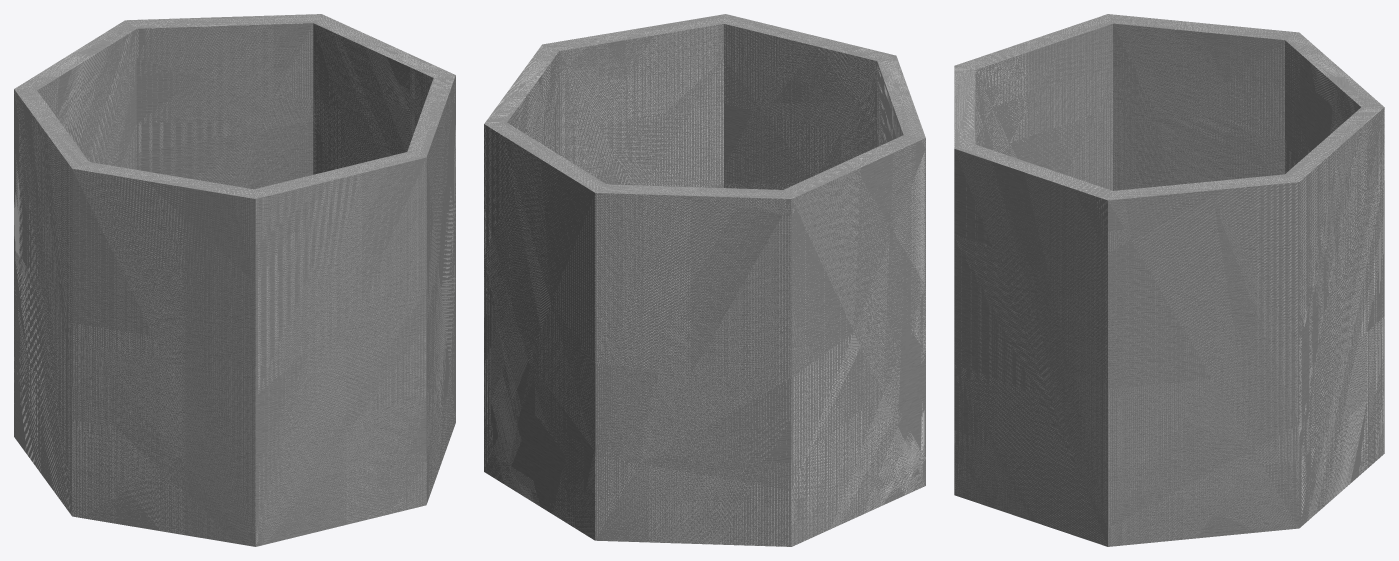
Rendered from Bucket.dae.
The picture shows the model from 3 angles, left to right: view 1: azimuth 30°, elevation 25°; view 2: azimuth 150°, elevation 25°; view 3: azimuth 270°, elevation 25°; orthographic projection.
Parts seen in each view (by area): view 1: SketchUp (×2); view 2: SketchUp (×2); view 3: SketchUp (×2).
Boxes of the visible parts, <box> form: SketchUp (×2): <box>14,14,455,546</box>; SketchUp (×2): <box>484,14,925,546</box>; SketchUp (×2): <box>954,14,1384,546</box>.
Bounding box in the file's own units: 15 × 14.62 × 12.99.
2 materials, 2 textured.
